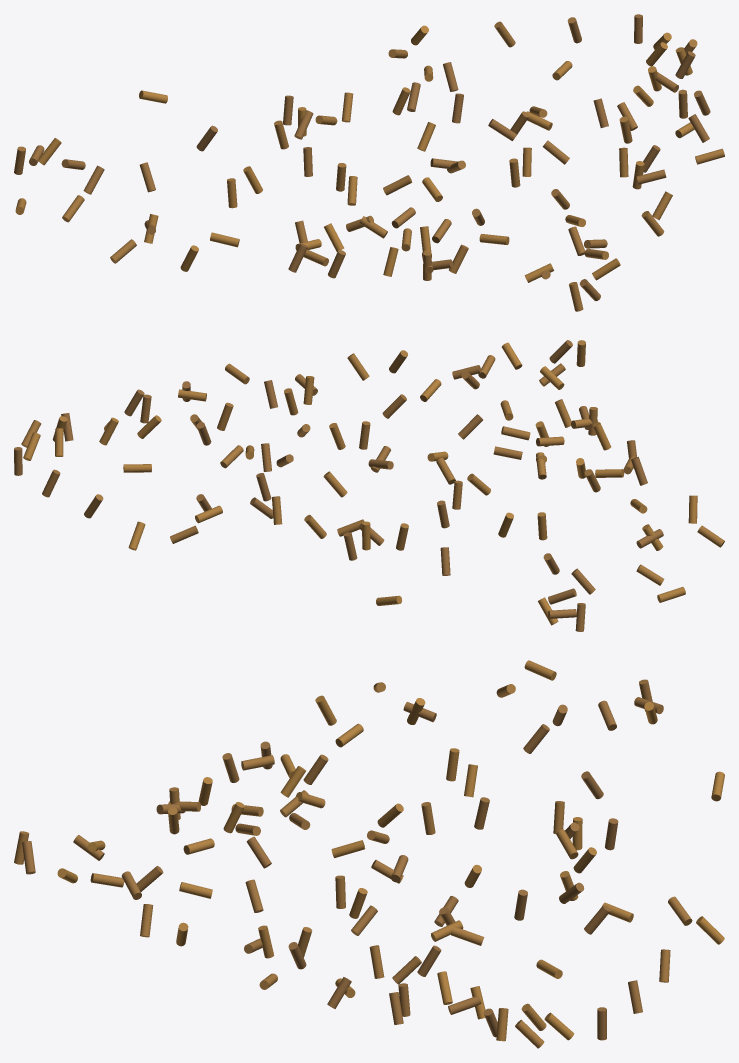
The model's file is choco_heart1.glb.
The picture shows the model from 3 angles, top to bottom: view 1: azimuth 30°, elevation 25°; view 2: azimuth 150°, elevation 25°; view 3: azimuth 270°, elevation 25°; orthographic projection. The views are drawn at different scales.
Bounding box in the file's own units: 2.74 × 0.1044 × 2.21.
